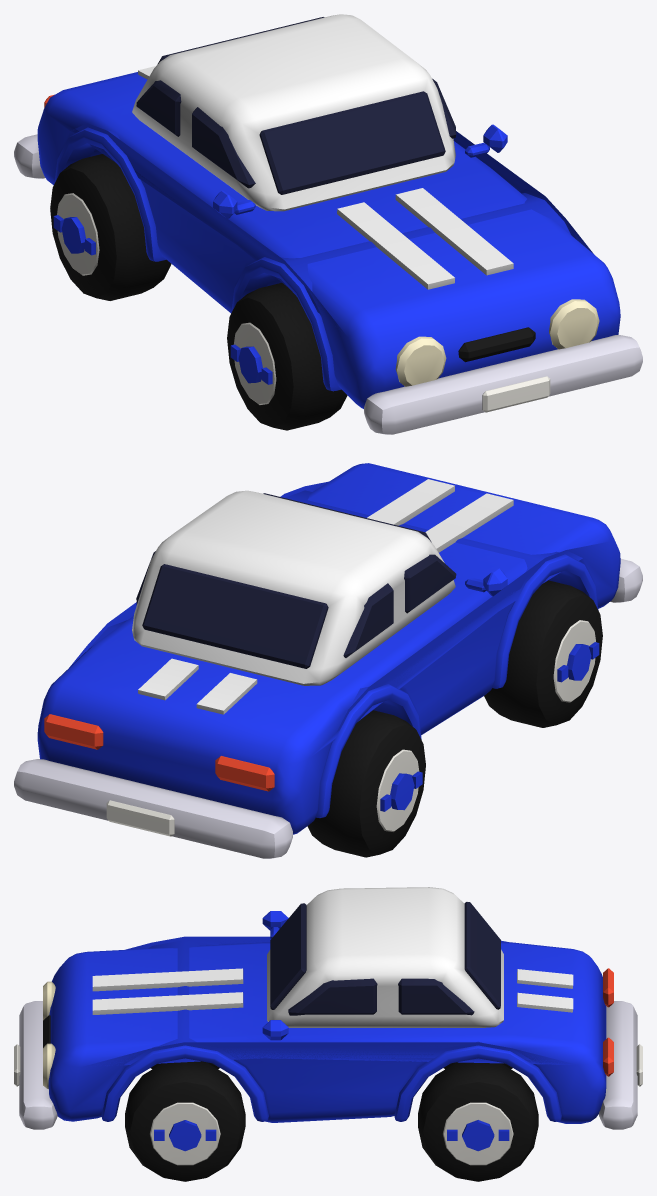
The model's file is car.glb.
3 renders of one model, top to bottom at view 1: azimuth 30°, elevation 25°; view 2: azimuth 150°, elevation 25°; view 3: azimuth 270°, elevation 25°, orthographic. The views are drawn at different scales.
Visible parts, largest first — view 1: body, wheel_rr, wheel_fr, headlights; view 2: body, wheel_fr, wheel_rr, taillights; view 3: body, wheel_fl, wheel_rl, taillights, headlights.
Boxes of the visible parts, <box> form: body: <box>14,14,642,434</box>; wheel_rr: <box>50,154,171,300</box>; wheel_fr: <box>227,283,347,430</box>; headlights: <box>395,299,599,386</box>; body: <box>14,463,642,858</box>; wheel_fr: <box>484,580,602,727</box>; wheel_rr: <box>307,710,425,857</box>; taillights: <box>44,714,274,791</box>; body: <box>14,887,642,1129</box>; wheel_fl: <box>125,1061,245,1181</box>; wheel_rl: <box>418,1062,538,1181</box>; taillights: <box>603,968,613,1076</box>; headlights: <box>43,981,55,1089</box>.
Size of the model in its own units: 1.48 by 1.04 by 2.92.
